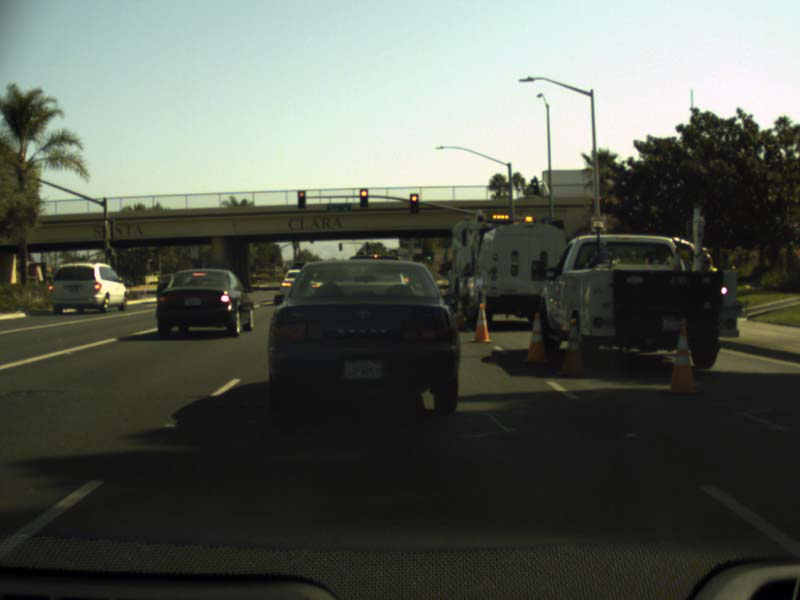Green: (426, 249, 432, 260)
Red: (409, 192, 419, 213), (297, 190, 306, 208), (359, 188, 367, 207)
